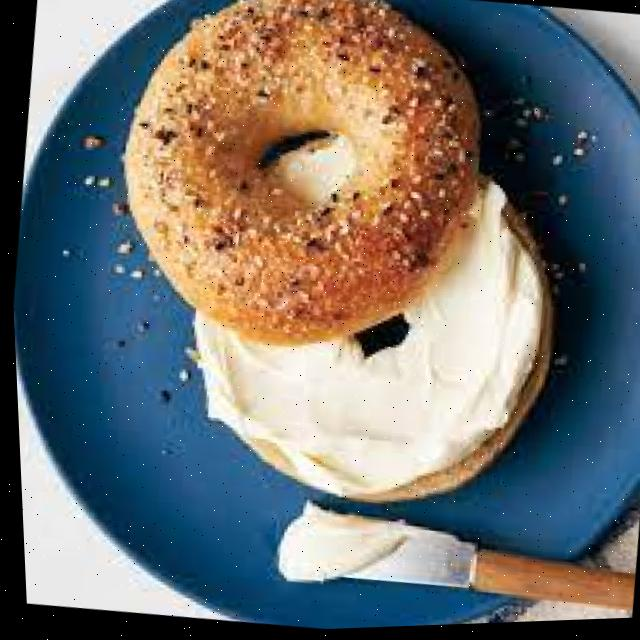Bagel: (122, 0, 475, 344), (195, 183, 550, 504)
